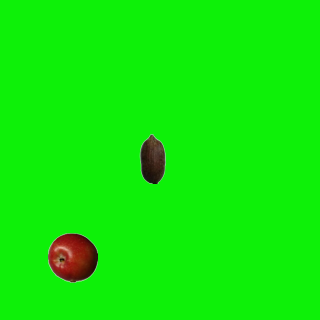Apple Braeburn: (47, 232, 97, 282)
Nut Pecan: (127, 133, 177, 183)
